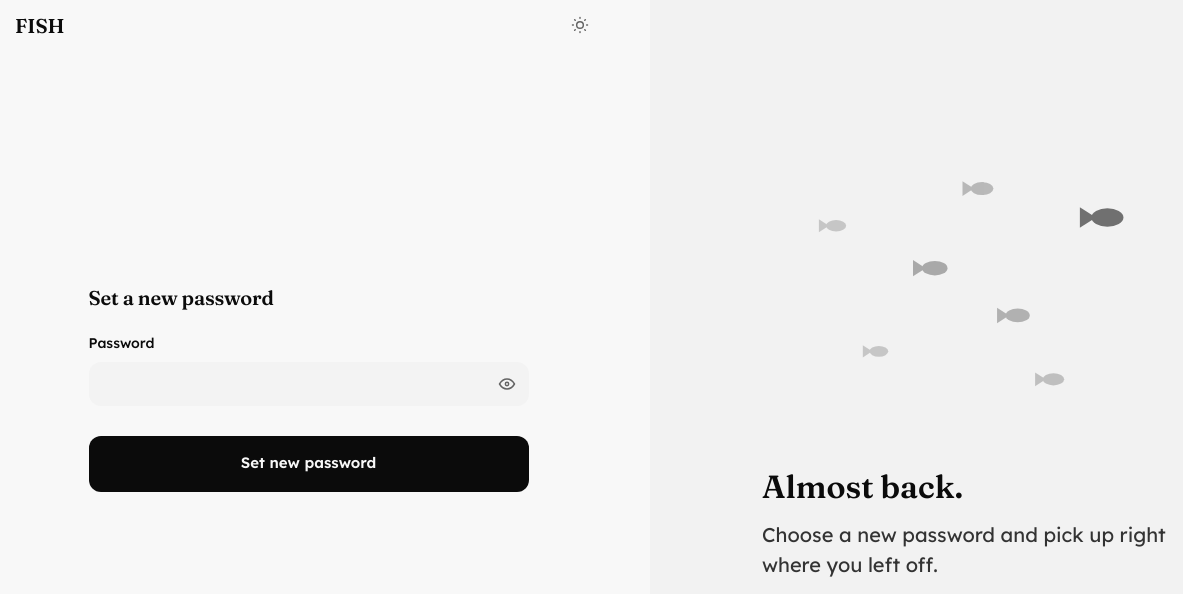
Scenario: ResetPasswordPage › a same_password error explains the real problem, not password length
This screenshot has width=1183, height=594.
Step 1. Type "new-password123" into the password field labelled "Password" → (308, 384), box x1=88 y1=362 x2=528 y2=406
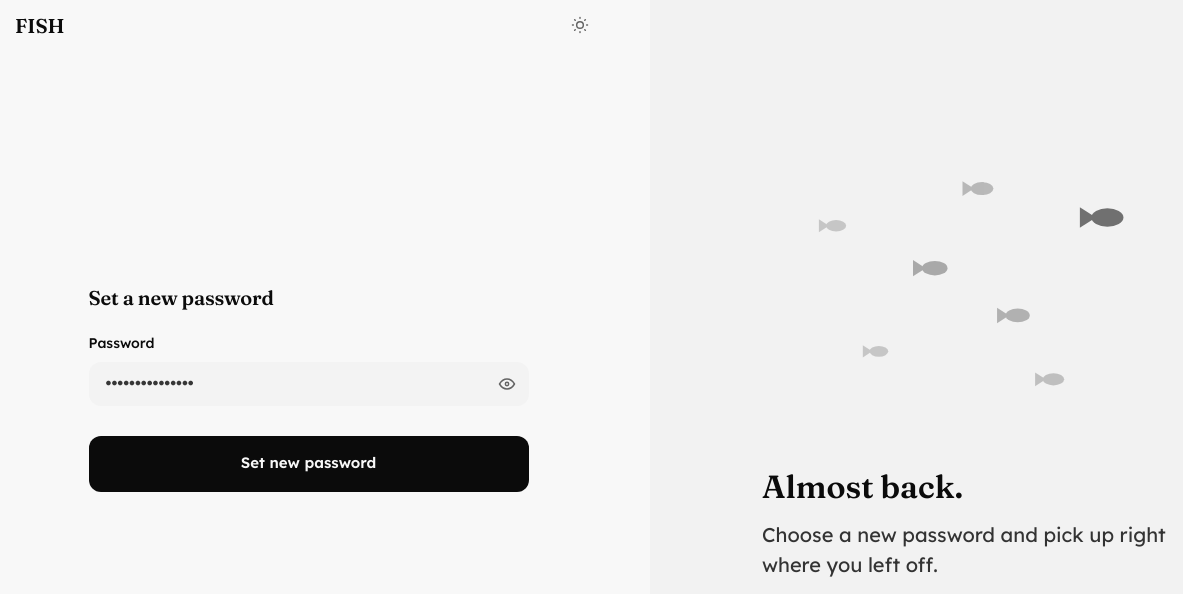
Step 2. Click the button "Set new password" → (308, 464), box x1=88 y1=436 x2=528 y2=492
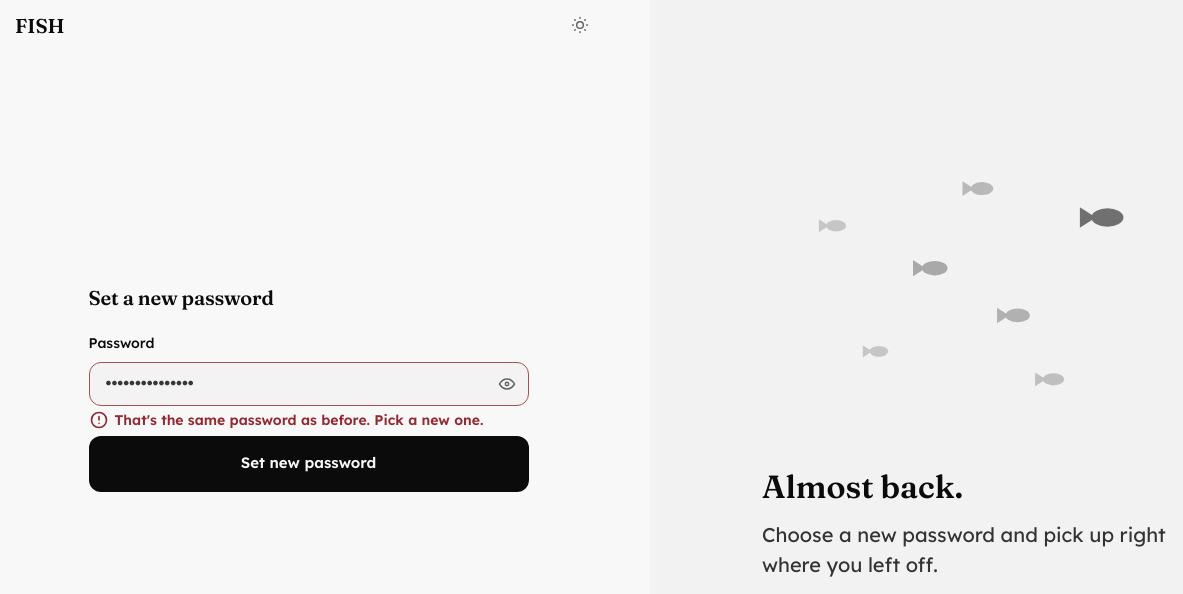
Result: the text "That's the same password as before. Pick a new one." is shown at x1=88 y1=410 x2=528 y2=430
